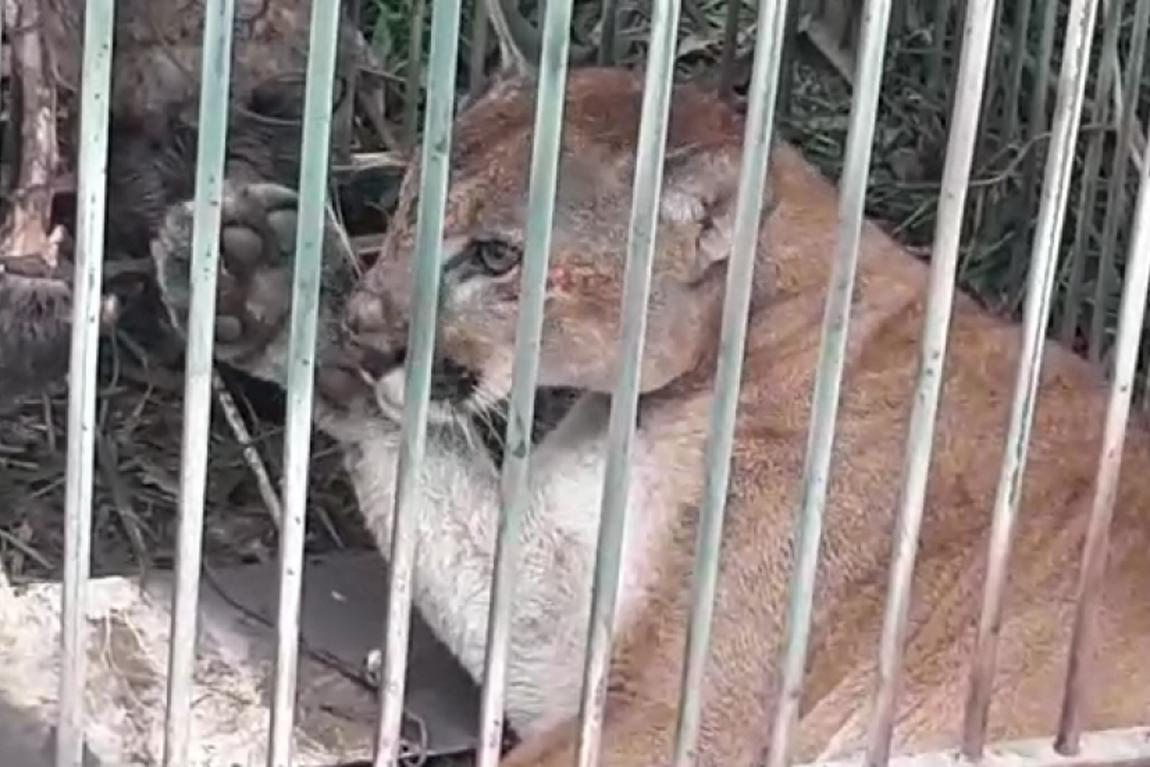OncaParda: (151, 59, 1129, 764)
